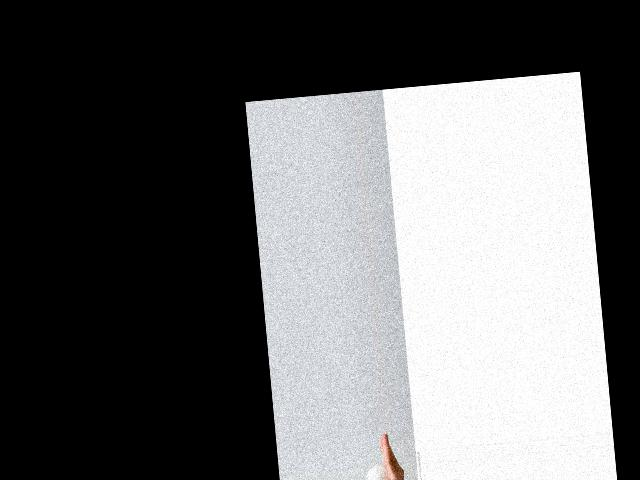egg: (366, 464, 391, 480)
